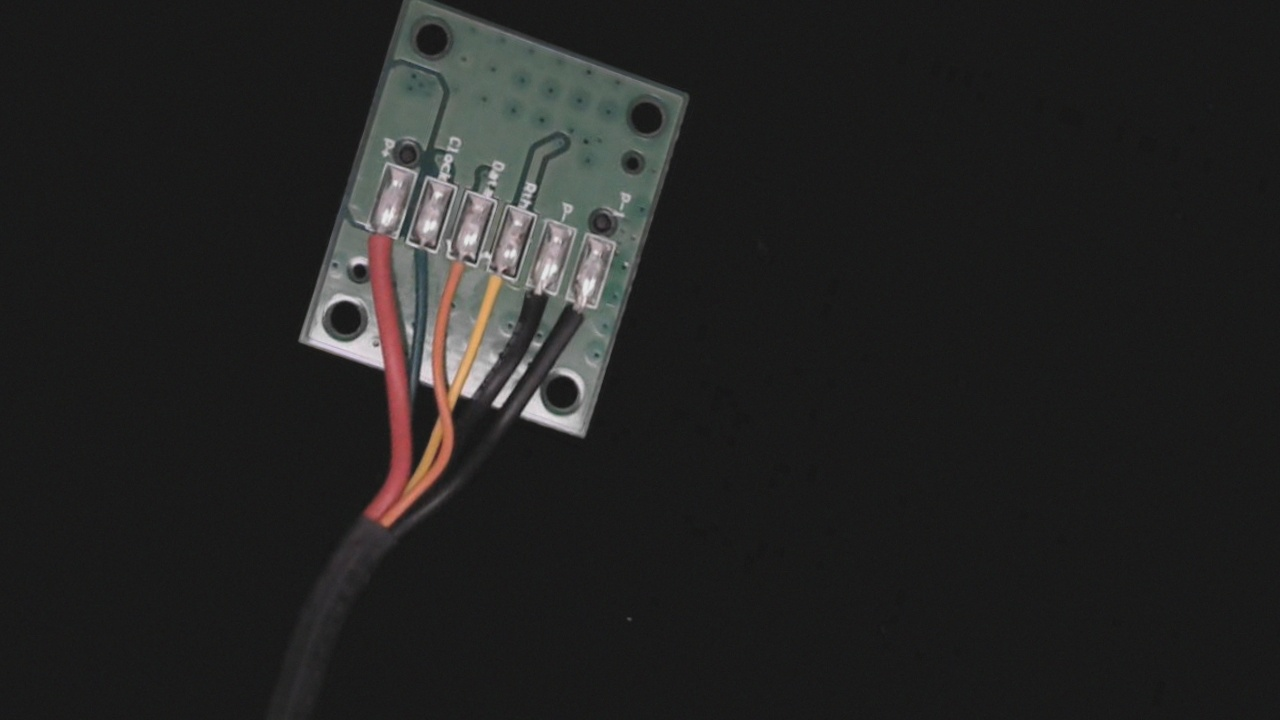Black: (501, 263, 566, 355)
Black1: (549, 278, 604, 353)
Green: (389, 224, 449, 302)
Orange: (428, 238, 483, 313)
Red: (350, 210, 406, 287)
Yellow: (468, 252, 524, 327)
